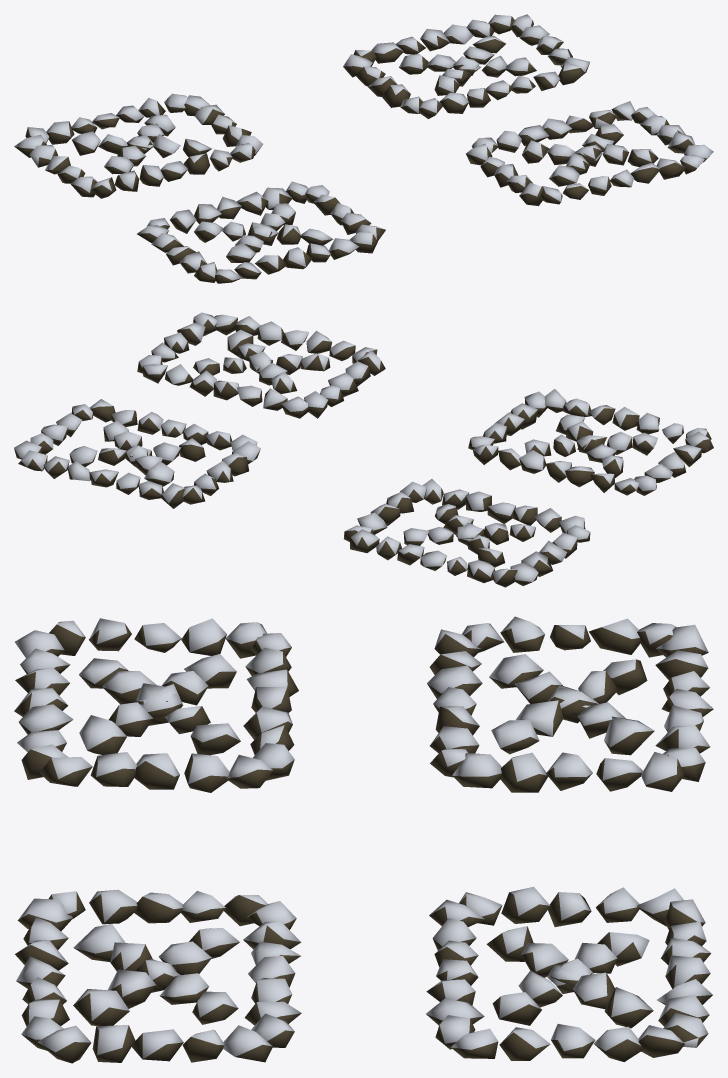
The model's file is parterre_dead.glb.
3 views of the same model, one above another, from view 1: azimuth 30°, elevation 25°; view 2: azimuth 150°, elevation 25°; view 3: azimuth 270°, elevation 25° (orthographic). The views are drawn at different scales.
Parts seen in each view (by area): view 1: parterre_dead; view 2: parterre_dead; view 3: parterre_dead.
Boxes of the visible parts, x1,y1,x2,y2 form: parterre_dead: (14, 14, 713, 283); parterre_dead: (14, 312, 713, 587); parterre_dead: (14, 616, 713, 1063).
Size of the model in its own units: 22.18 by 0.8486 by 15.29.
